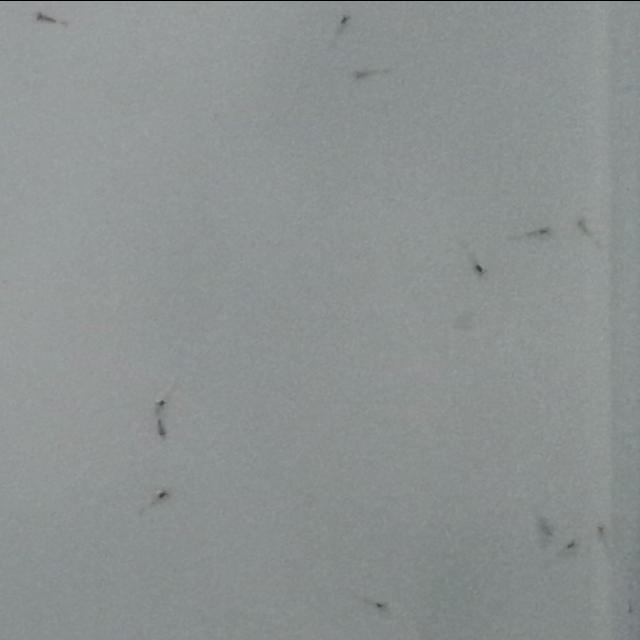shrimp-seed: (333, 8, 358, 35), (31, 6, 58, 29), (534, 516, 557, 538), (150, 392, 172, 414), (152, 484, 174, 504), (468, 258, 490, 278), (371, 596, 394, 614), (349, 64, 374, 80), (530, 222, 554, 238), (154, 418, 170, 441), (560, 536, 580, 553), (573, 218, 591, 236), (587, 520, 603, 534)
